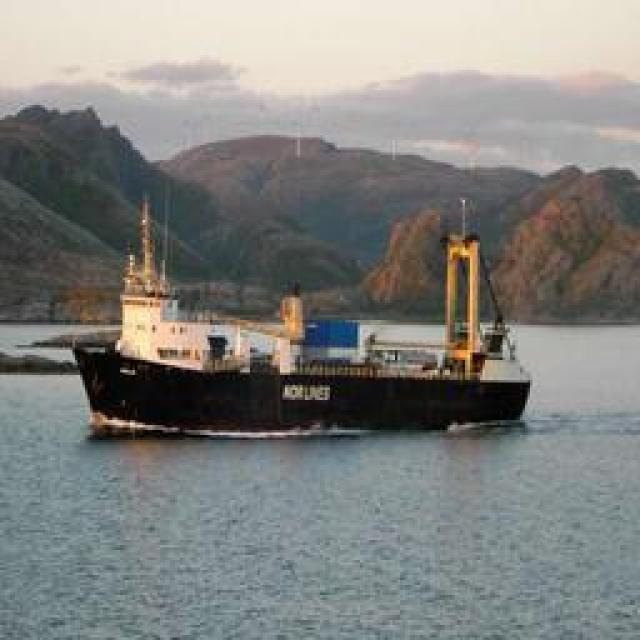ship2: (71, 195, 534, 441)
